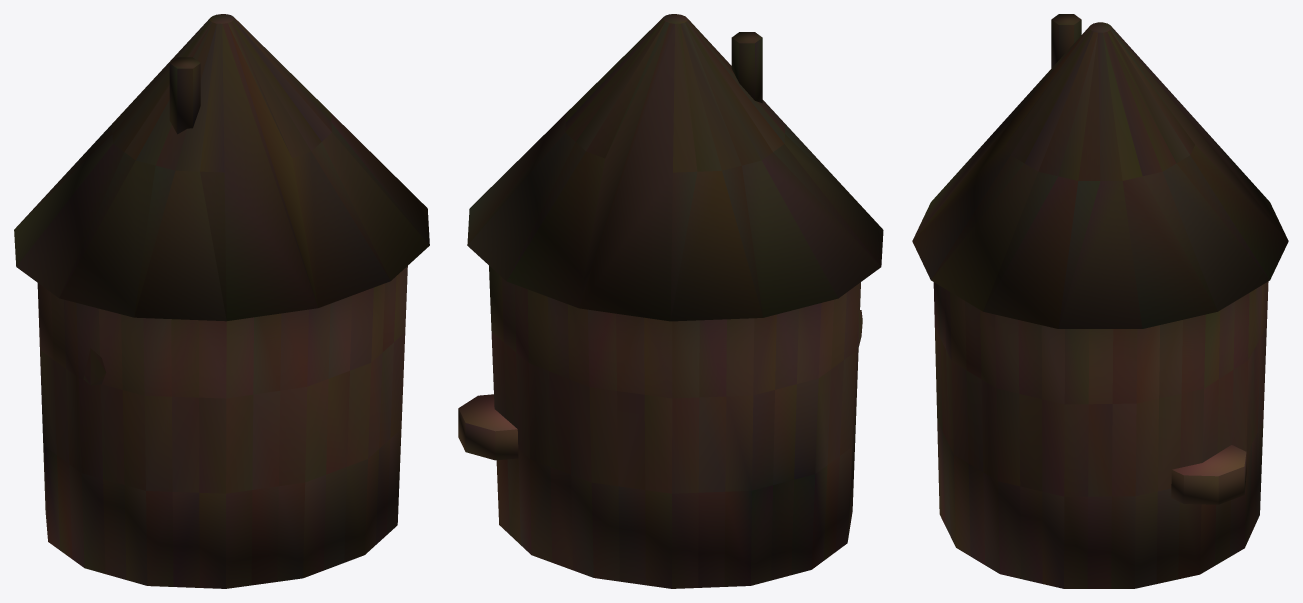
The model's file is structure_bk_foret_broceliande_0001.glb.
3 renders of one model, left to right at view 1: azimuth 30°, elevation 25°; view 2: azimuth 150°, elevation 25°; view 3: azimuth 270°, elevation 25°, orthographic. The views are drawn at different scales.
Visible parts, largest first — view 1: structure_bk_001; view 2: structure_bk_001; view 3: structure_bk_001.
Part boxes in pixels (box(x1,y1,x2,y2)): structure_bk_001: box(14, 14, 429, 588); structure_bk_001: box(458, 14, 883, 588); structure_bk_001: box(912, 14, 1288, 588).
Bounding box in the file's own units: 1.65 × 2.13 × 1.49.
